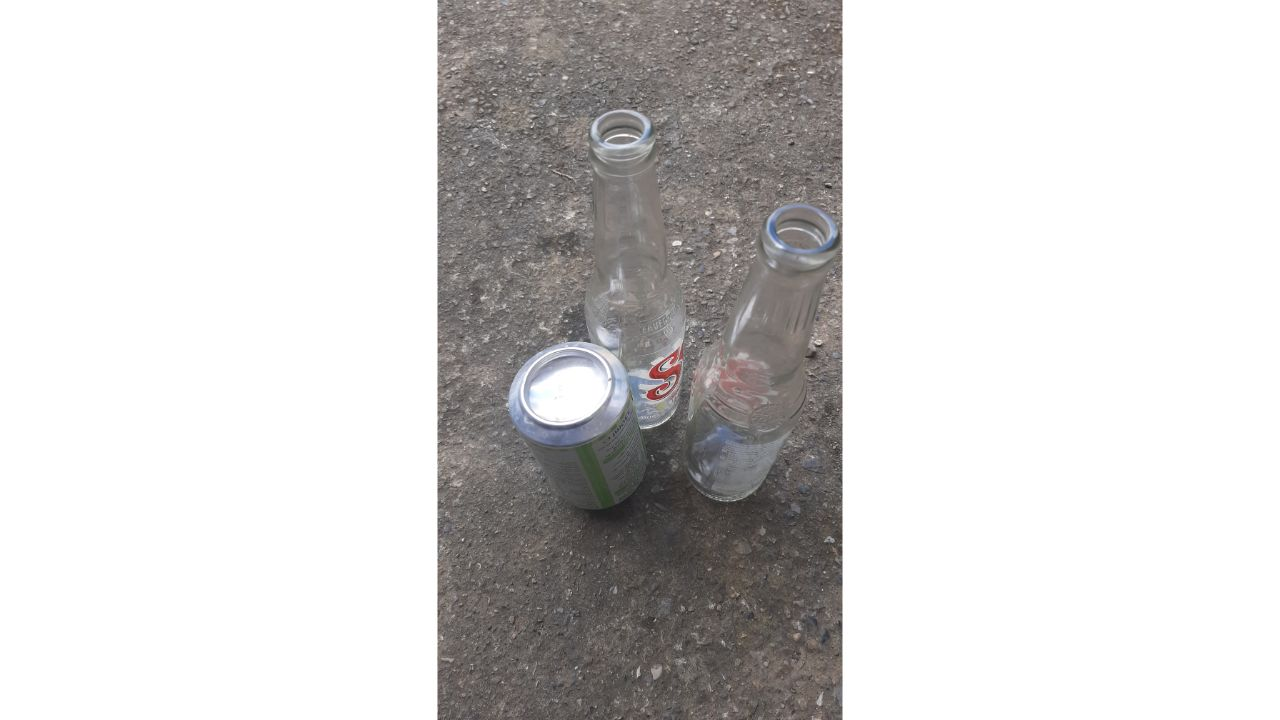Can: (499, 331, 665, 534)
